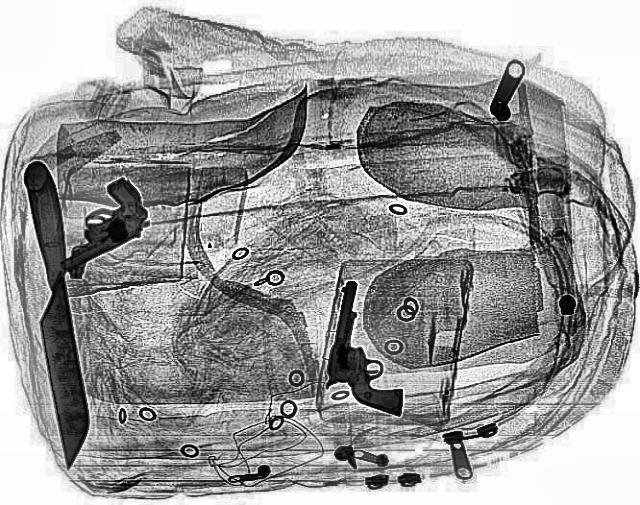Gun: (312, 279, 430, 415), (23, 176, 166, 272)
Knife: (11, 158, 101, 468)
